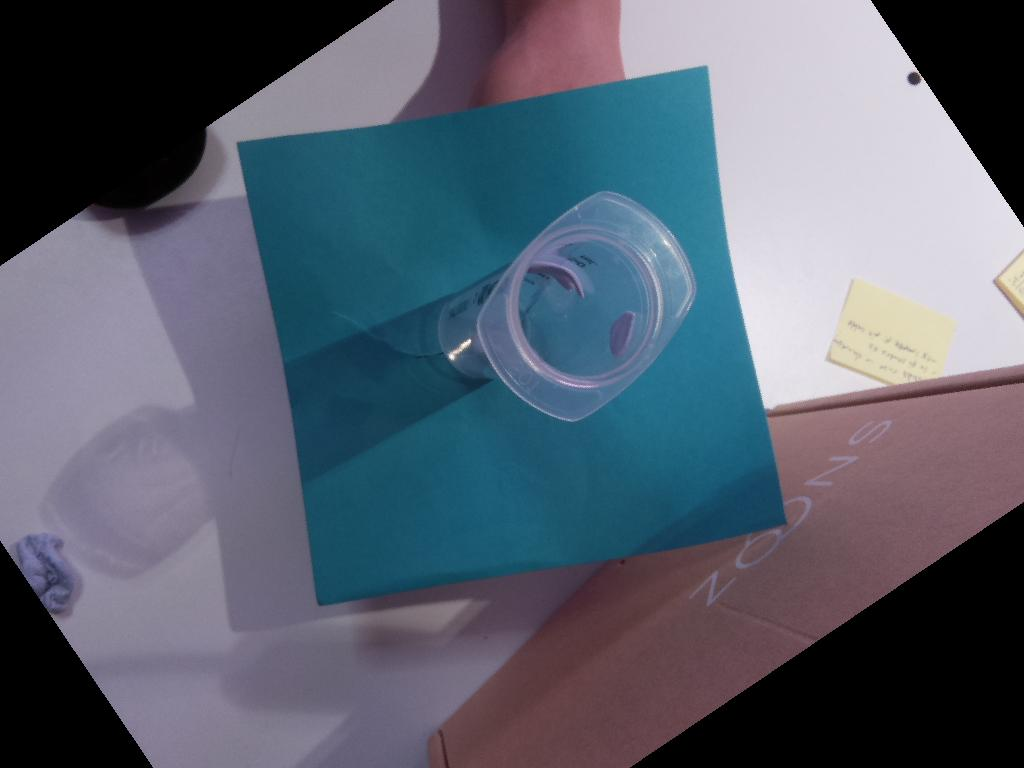dirty: (476, 190, 697, 422)
